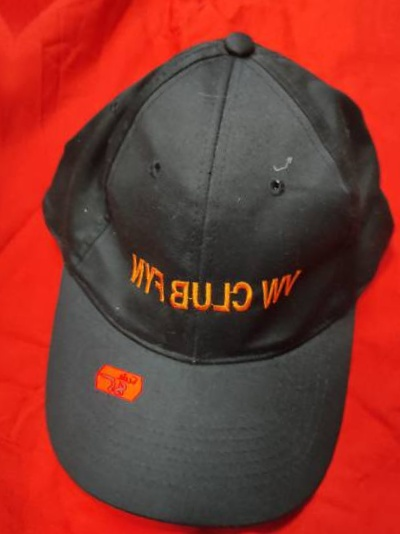Hat: (0, 0, 400, 534), (396, 40, 400, 534)
